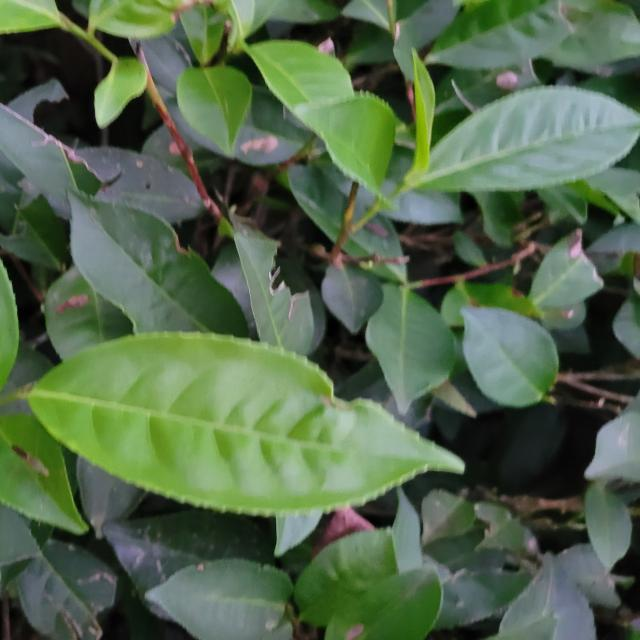Catagory A(1-2 days): (27, 330, 480, 527)
